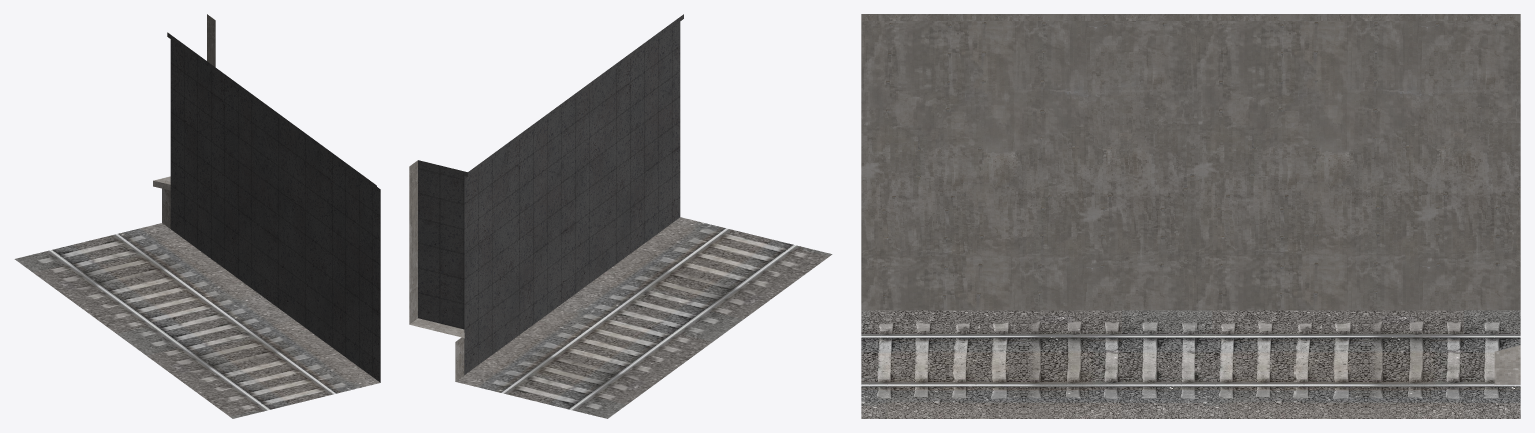
The model's file is tunnel end.glb.
3 views of the same model, side by side, from view 1: azimuth 30°, elevation 25°; view 2: azimuth 150°, elevation 25°; view 3: azimuth 270°, elevation 25° (orthographic). The views are drawn at different scales.
Visible parts, largest first — view 1: St_05; view 2: St_05; view 3: St_05.
Part boxes in pixels (bbox=[...]): St_05: bbox=[14, 14, 380, 418]; St_05: bbox=[409, 14, 832, 418]; St_05: bbox=[861, 14, 1520, 418].
Bounding box in the file's own units: 6.37 × 6.26 × 12.52.
Materials: 3 (3 with a texture image).
